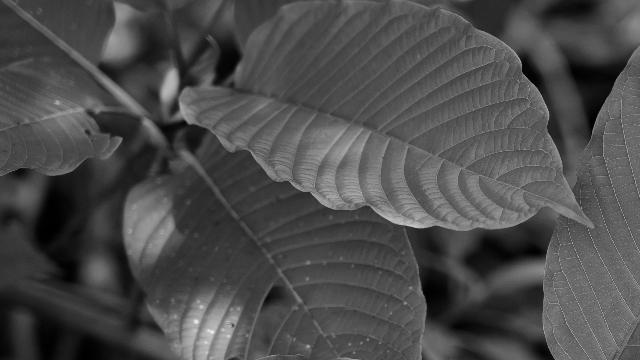kratom-red: (157, 0, 609, 269), (515, 0, 639, 359), (638, 323, 639, 359)
